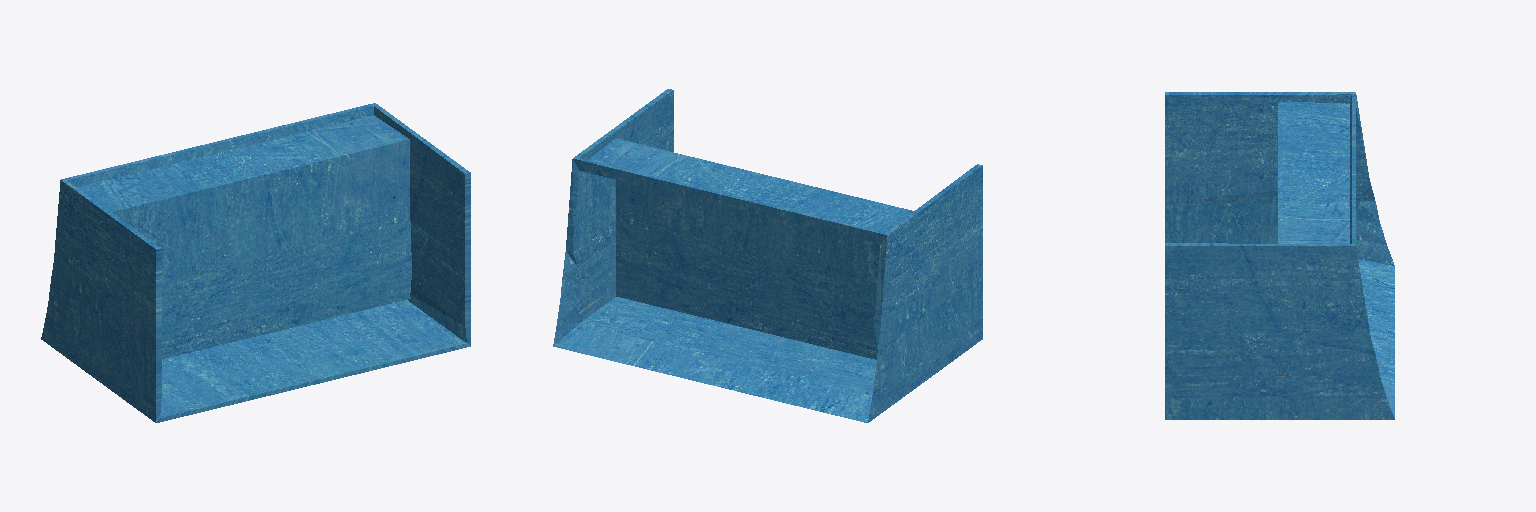
3 views of the same model, side by side, from view 1: azimuth 30°, elevation 25°; view 2: azimuth 150°, elevation 25°; view 3: azimuth 270°, elevation 25° (orthographic).
Visible parts, largest first — view 1: Cube.017_Cube.018; view 2: Cube.017_Cube.018; view 3: Cube.017_Cube.018.
Boxes of the visible parts, <box> form: Cube.017_Cube.018: <box>41,103,470,422</box>; Cube.017_Cube.018: <box>553,89,982,422</box>; Cube.017_Cube.018: <box>1165,92,1394,419</box>.
Size of the model in its own units: 0.042 by 0.0222 by 0.0266.
Materials: 1 (1 with a texture image).